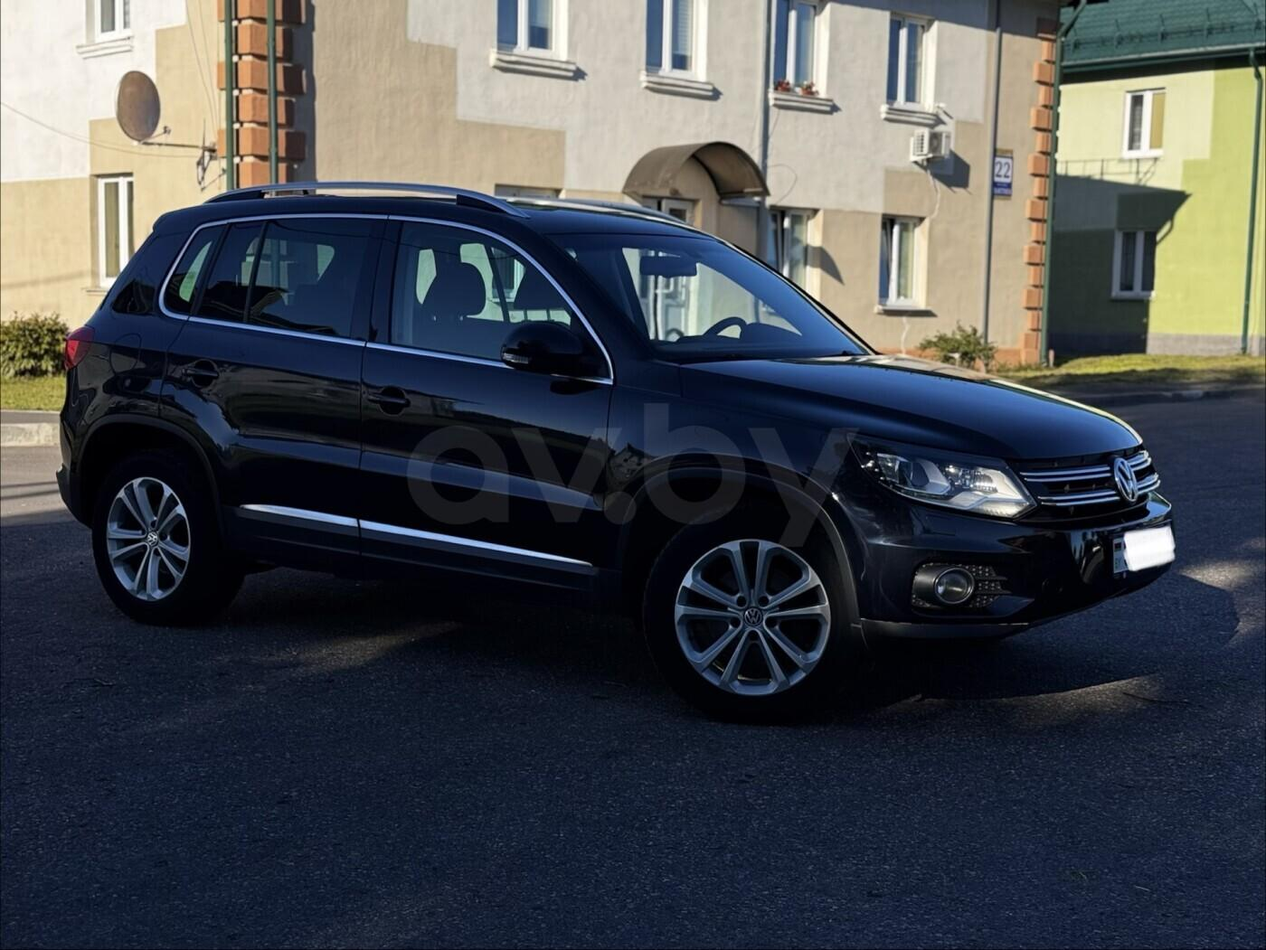Tiguan_2011-2018: (54, 183, 1172, 709)
